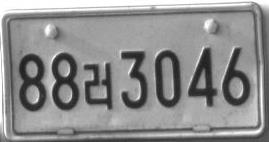0: (154, 49, 181, 108)
3: (119, 50, 148, 109)
4: (187, 46, 218, 108)
6: (220, 46, 251, 106)
8: (17, 53, 46, 112), (51, 52, 80, 111)
러: (83, 62, 113, 109)
